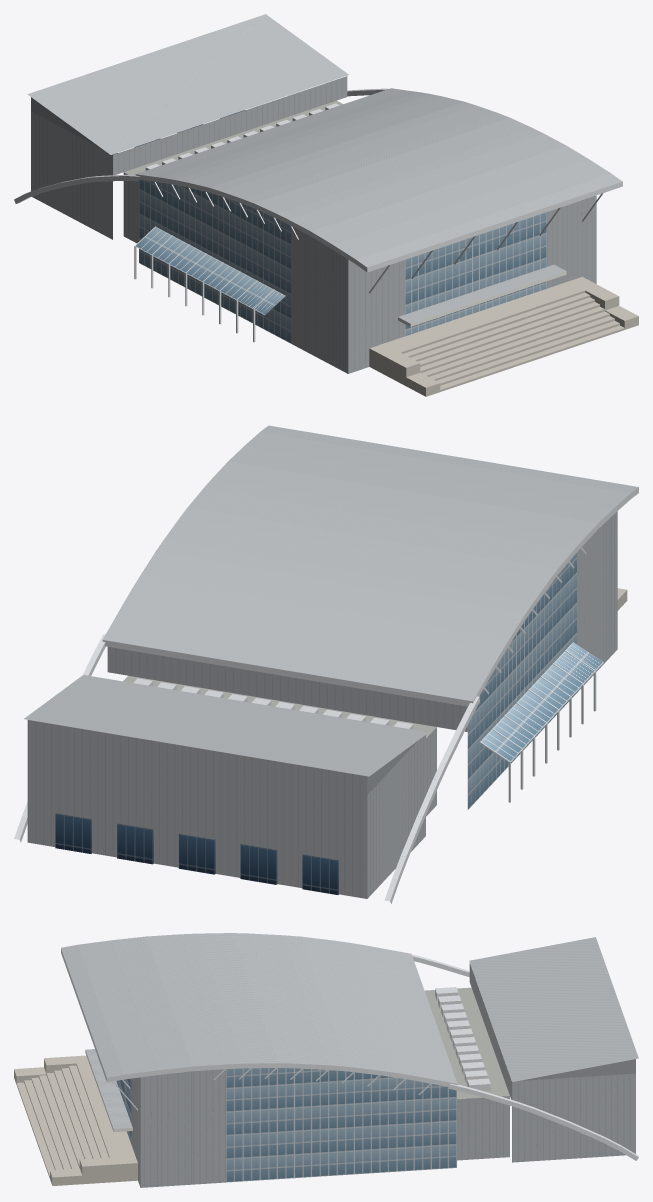
File: dongyuan_tiyuguan.glb
3 views of the same model, one above another, from view 1: azimuth 30°, elevation 25°; view 2: azimuth 150°, elevation 25°; view 3: azimuth 270°, elevation 25° (orthographic). The views are drawn at different scales.
Visible parts, largest first — view 1: 东苑体育馆; view 2: 东苑体育馆; view 3: 东苑体育馆.
Boxes of the visible parts, x1=… form: 东苑体育馆: x1=14, y1=14, x2=638, y2=396; 东苑体育馆: x1=14, y1=425, x2=638, y2=903; 东苑体育馆: x1=14, y1=933, x2=638, y2=1187.
Size of the model in its own units: 90.17 by 31.05 by 145.
8 materials, 4 textured.
